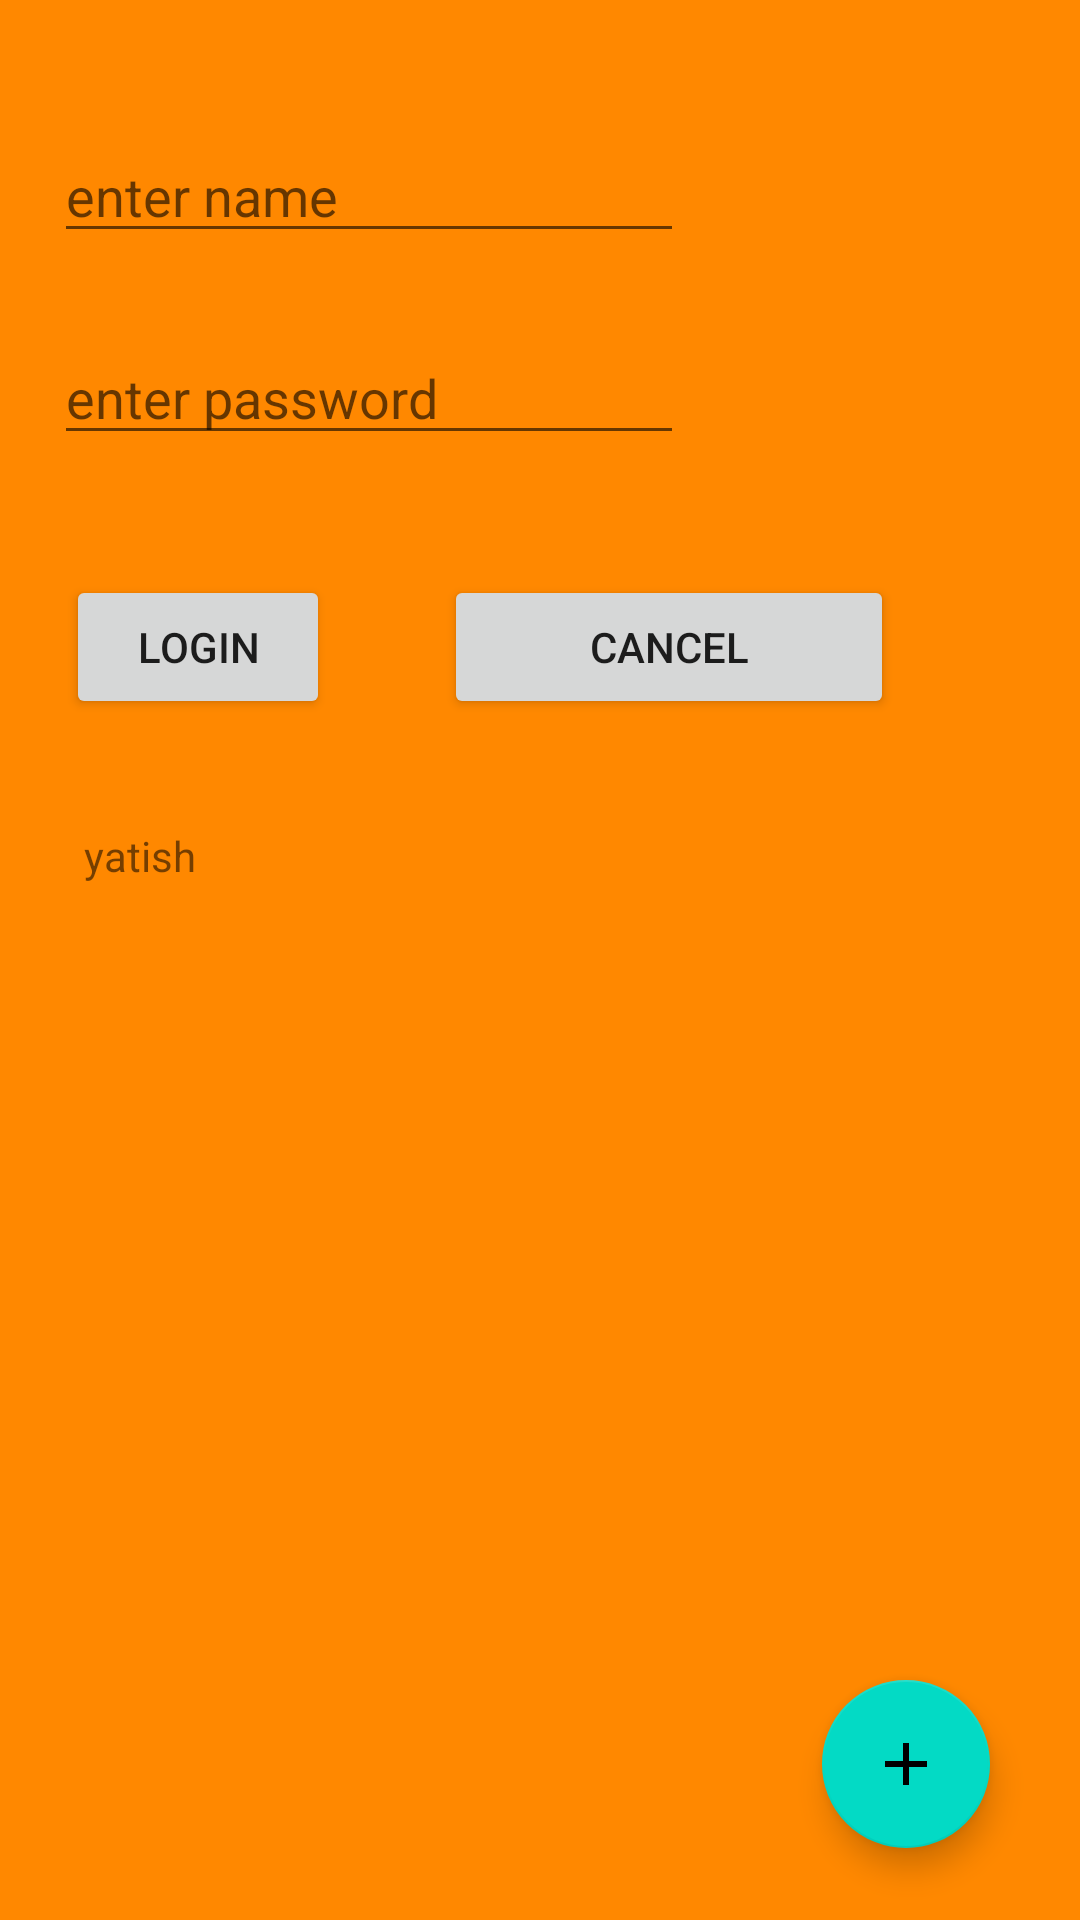

Where icons sit on this 1080w x 1920h app screen, as (x1, y1, x2, y2):
add: (822, 1680, 990, 1848)
